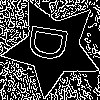D: (27, 22, 78, 65)
